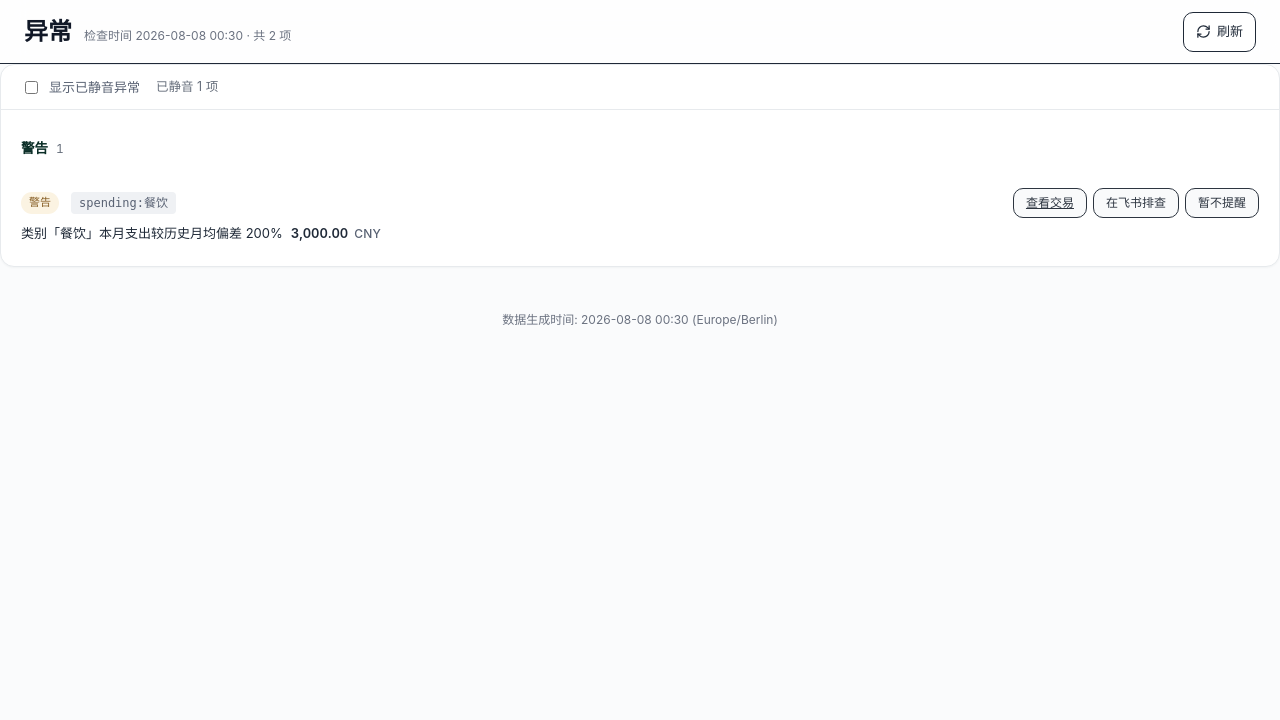
Test case: AlertsPage › 开启「显示已静音异常」后显示已静音标记与「恢复提醒」按钮
Check: the element with class "anomaly-list" is shown, box left=0, top=64, right=1279, bottom=266
Check: the text "备份过期或从未成功" is not shown
What coordinates should you click on to do the following:
click the checkbox labelled "显示已静音异常"
I would click on:
 (32, 87)
Its box is left=25, top=81, right=38, bottom=94.
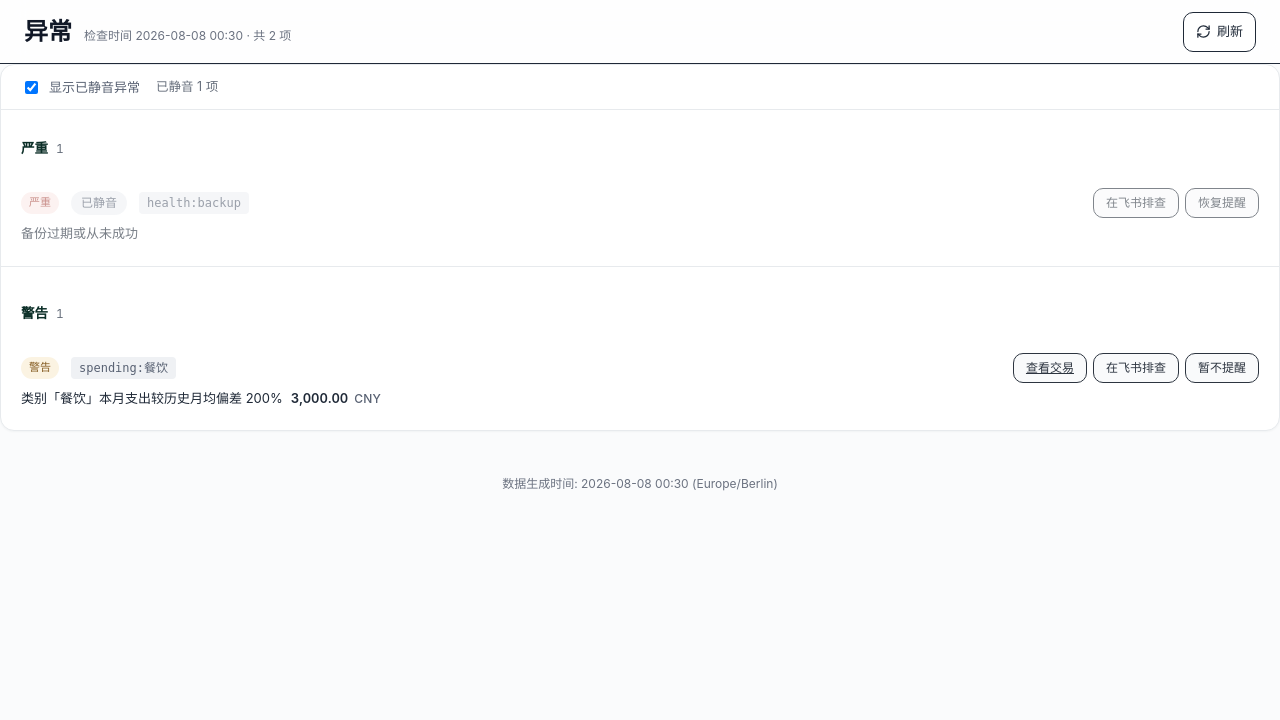
Check: the text "备份过期或从未成功" is shown, box left=21, top=225, right=138, bottom=241
Check: the text with class "badge" reads "严重", box left=29, top=195, right=51, bottom=209
Check: the list item with class "anomaly-critical" shows "已静音", box left=81, top=195, right=117, bottom=210
